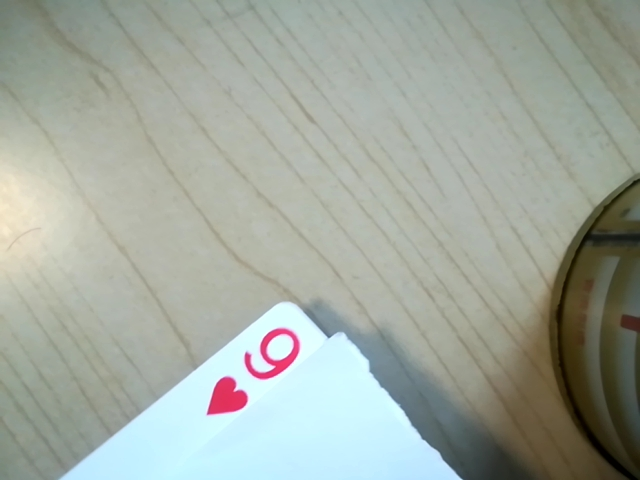hx 9: (207, 320, 318, 417)
